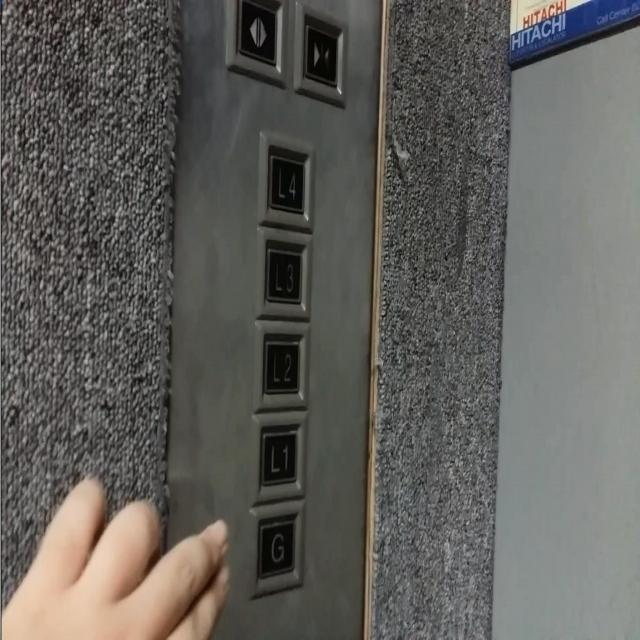G: (248, 502, 304, 598)
L1: (253, 409, 308, 503)
L2: (254, 317, 309, 413)
L3: (254, 225, 312, 324)
L4: (257, 127, 317, 231)
close: (291, 0, 349, 108)
open: (226, 2, 287, 88)
